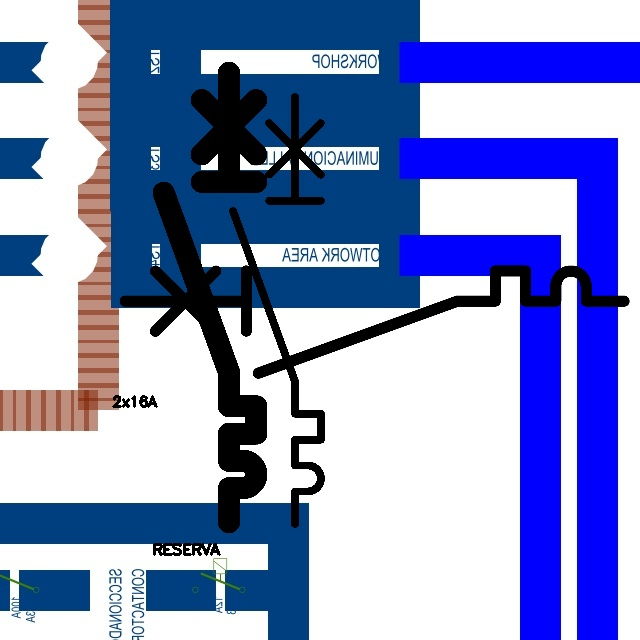interruptor_termomagnetico: (112, 258, 637, 386), (152, 61, 268, 534), (222, 86, 332, 535)
